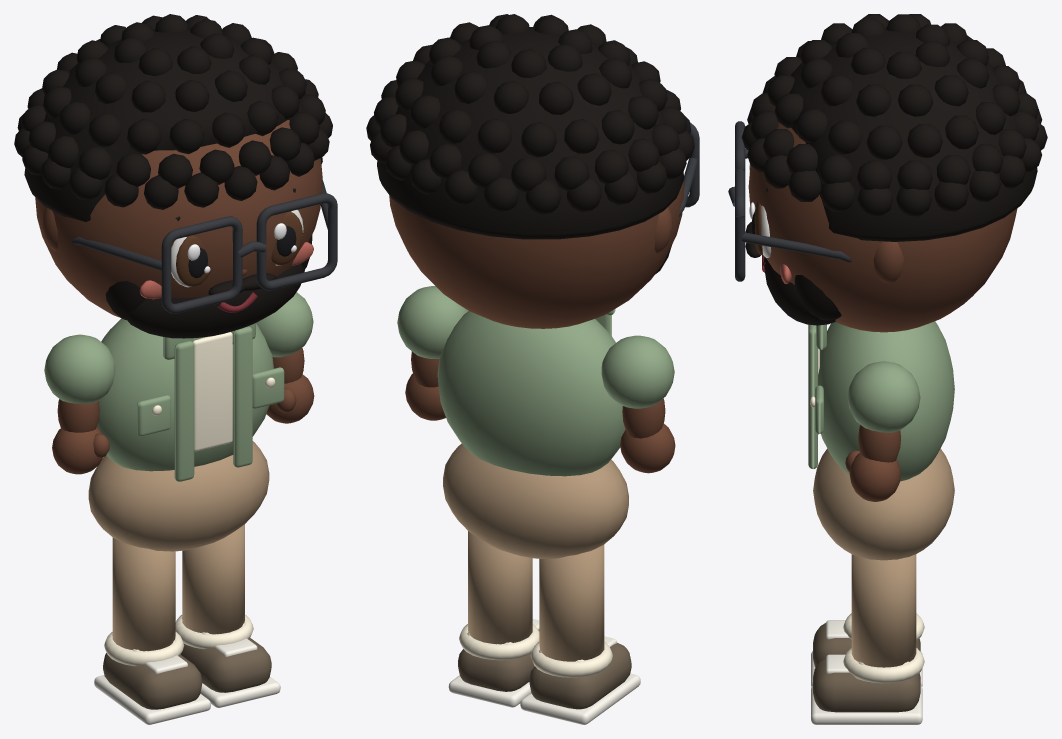
Rendered from chibi-dad.glb.
3 renders of one model, left to right at view 1: azimuth 30°, elevation 25°; view 2: azimuth 150°, elevation 25°; view 3: azimuth 270°, elevation 25°, orthographic. The views are drawn at different scales.
Visible parts, largest first — view 1: head-textured black hair, head-deep brown skin, torso-dad sage shirt, torso-dad tan trousers, head-dad charcoal glasses, leg-left-dad tan trousers, leg-right-dad tan trousers, torso-cream accents, arm-left-dad sage shirt, leg-left-dad brown shoes, arm-left-deep brown skin, leg-right-dad brown shoes (+9 smaller); view 2: head-textured black hair, torso-dad sage shirt, head-deep brown skin, torso-dad tan trousers, leg-left-dad tan trousers, leg-right-dad tan trousers, arm-left-dad sage shirt, arm-right-dad sage shirt, leg-left-dad brown shoes, arm-left-deep brown skin, leg-right-dad brown shoes, arm-right-deep brown skin (+5 smaller); view 3: head-textured black hair, head-deep brown skin, torso-dad sage shirt, torso-dad tan trousers, leg-right-dad tan trousers, arm-right-dad sage shirt, leg-right-dad brown shoes, arm-right-deep brown skin, head-dad charcoal glasses, leg-right-dad cream sole, leg-right-cream accents, leg-left-dad brown shoes (+1 smaller).
Boxes of the visible parts, x1,y1,x2,y2 form: head-textured black hair: (14, 14, 332, 338); head-deep brown skin: (35, 120, 322, 317); torso-dad sage shirt: (97, 318, 284, 481); torso-dad tan trousers: (88, 441, 269, 551); head-dad charcoal glasses: (71, 180, 337, 313); leg-left-dad tan trousers: (112, 537, 175, 651); leg-right-dad tan trousers: (182, 524, 244, 634); torso-cream accents: (152, 332, 275, 451); arm-left-dad sage shirt: (44, 334, 115, 403); leg-left-dad brown shoes: (103, 653, 202, 709); arm-left-deep brown skin: (52, 399, 109, 474); leg-right-dad brown shoes: (181, 638, 271, 692); head-textured black hair: (366, 14, 694, 274); torso-dad sage shirt: (437, 309, 625, 476); head-deep brown skin: (389, 181, 683, 328); torso-dad tan trousers: (443, 443, 628, 558); leg-left-dad tan trousers: (539, 544, 604, 661); leg-right-dad tan trousers: (468, 531, 532, 644); arm-left-dad sage shirt: (601, 335, 674, 408); arm-right-dad sage shirt: (397, 286, 468, 358); leg-left-dad brown shoes: (529, 642, 631, 709); arm-left-deep brown skin: (620, 398, 675, 473); leg-right-dad brown shoes: (458, 629, 539, 691); arm-right-deep brown skin: (405, 351, 445, 420); head-textured black hair: (741, 14, 1047, 325); head-deep brown skin: (748, 107, 1017, 332); torso-dad sage shirt: (808, 321, 954, 481); torso-dad tan trousers: (813, 448, 954, 560); leg-right-dad tan trousers: (851, 554, 916, 667); arm-right-dad sage shirt: (847, 361, 920, 432); leg-right-dad brown shoes: (813, 657, 920, 712); arm-right-deep brown skin: (845, 425, 900, 501); head-dad charcoal glasses: (728, 121, 851, 281); leg-right-dad cream sole: (811, 654, 922, 724); leg-right-cream accents: (843, 648, 924, 683); leg-left-dad brown shoes: (813, 623, 920, 667).
Size of the model in its own units: 1.52 by 3.39 by 1.49.
